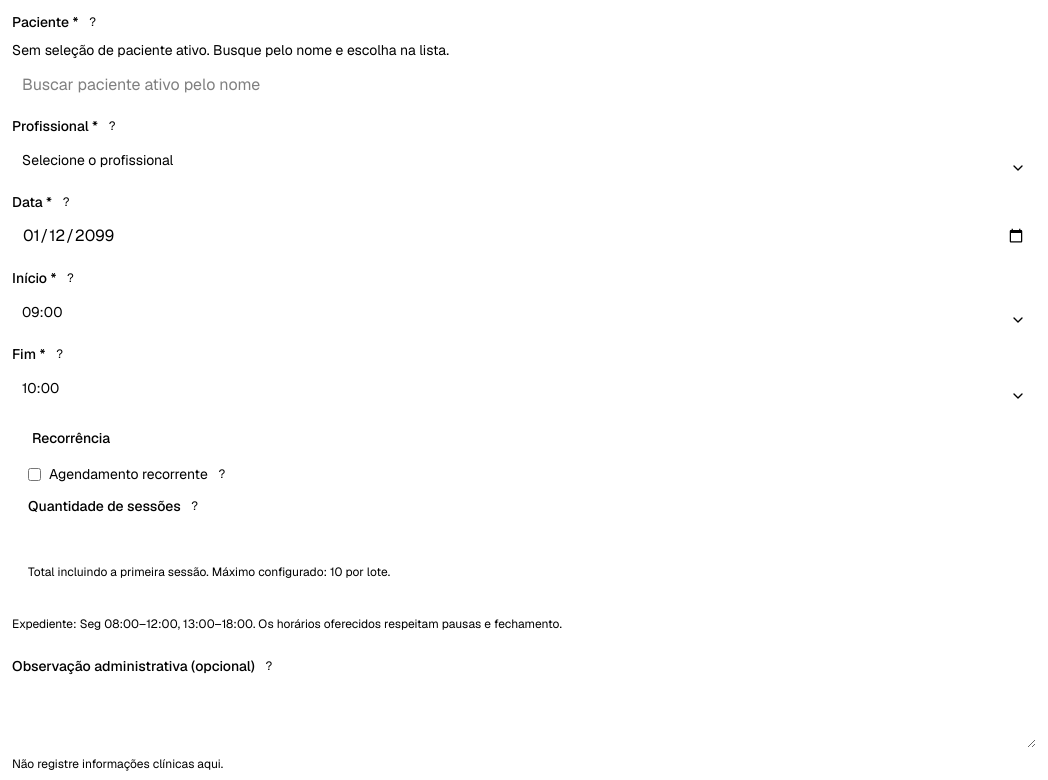
it: AppointmentForm — expediente › trocar para um dia fechado limpa início e fim já escolhidos
The image size is (1048, 780).
Type "2099-01-11" into the date field labelled "Data *" at point(524, 236), box [12,220,1036,252]
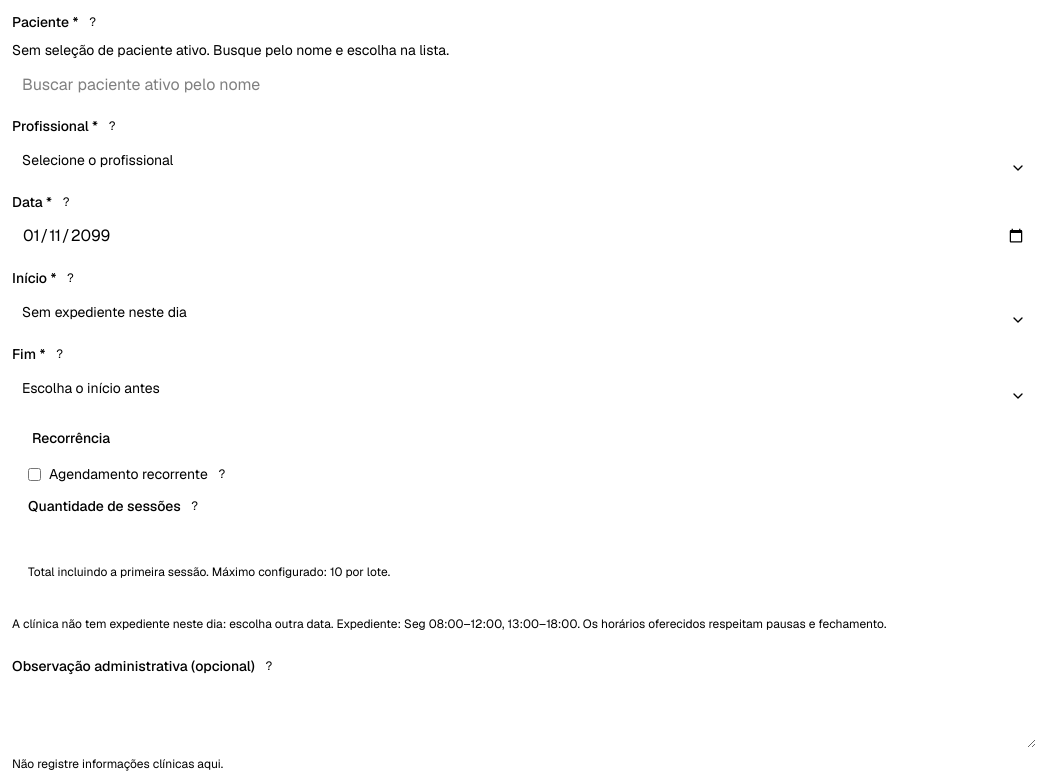
Result: the dropdown labelled "Início *" shows "Sem expediente neste dia" at [12,296,1036,328]
Result: the dropdown labelled "Fim *" shows "Escolha o início antes" at [12,372,1036,404]
